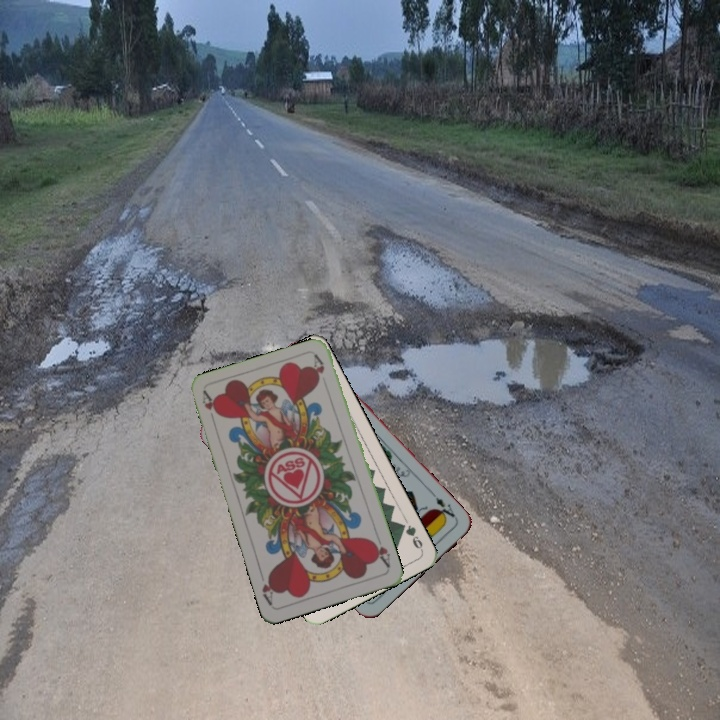EA: (431, 493, 458, 523)
G9: (395, 519, 425, 553)
HA: (368, 531, 393, 570), (198, 388, 222, 428)
